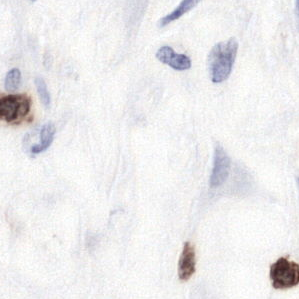Lymphocyte: (175, 239, 198, 283)
